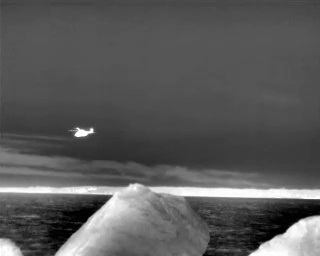HELICOPTER: (65, 122, 98, 143)
